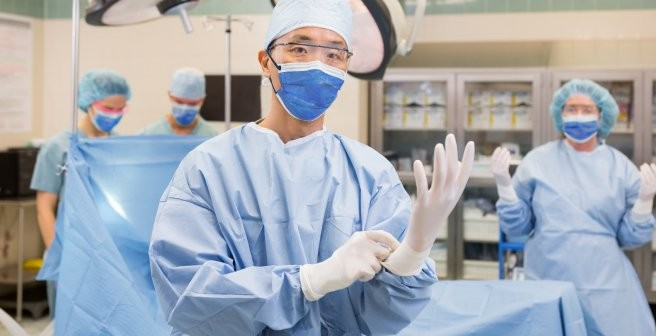Gloves: (381, 131, 478, 278), (299, 228, 398, 302), (627, 162, 656, 226), (487, 145, 518, 203)
Goggles: (263, 37, 351, 74)
with_mask: (278, 40, 345, 125), (562, 102, 598, 143), (87, 100, 126, 133), (167, 95, 201, 128)
